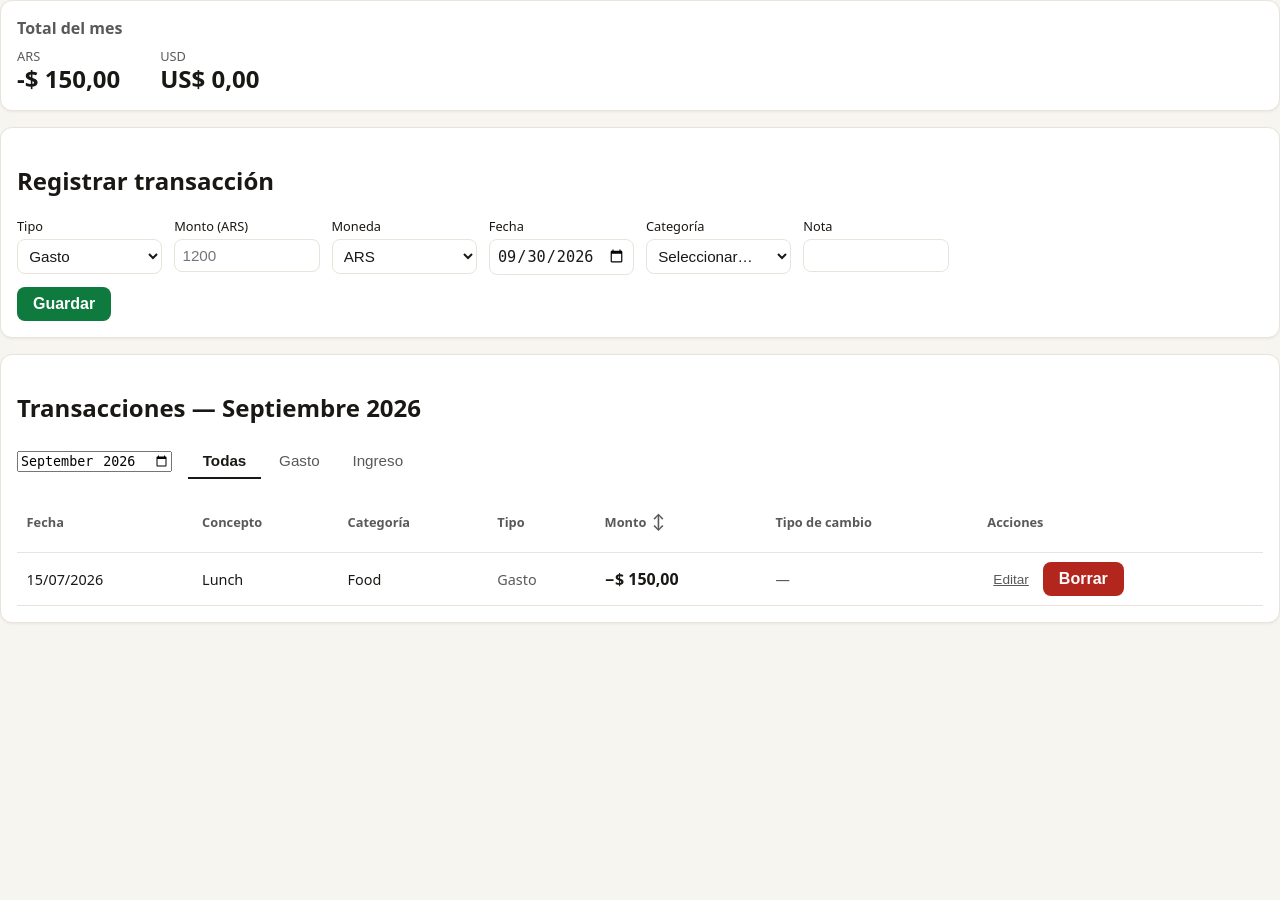
Test: TransactionsPage › deletes a row after inline confirmation
The width and height of the screenshot is (1280, 900).
Expected: the text "−$ 150,00" is shown, [605,568,679,590]
Click the button "Borrar".
click(1083, 579)  # box [1043,562,1124,596]
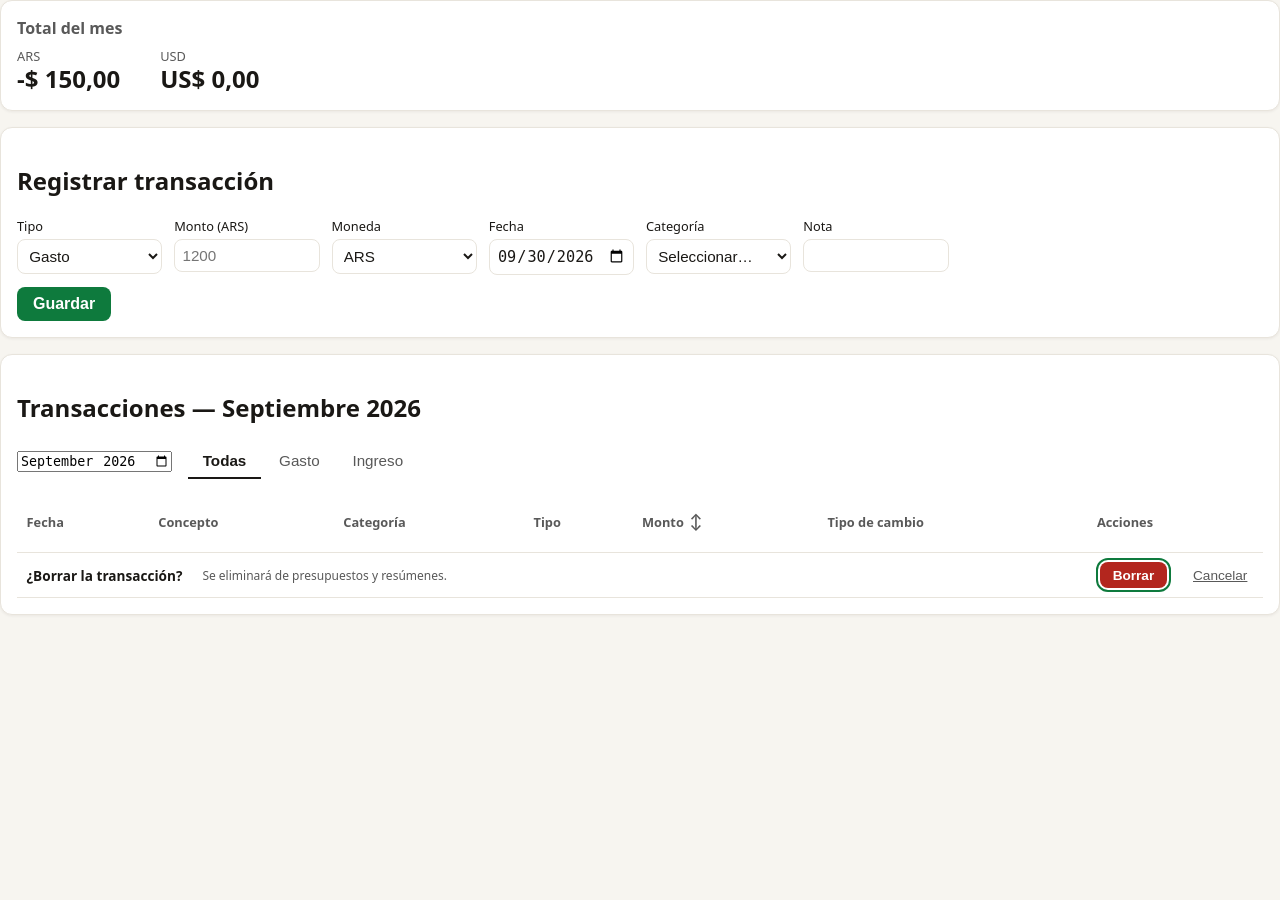
Result: the text "Se eliminará de presupuestos y resúmenes." is shown at [202,567,447,584]
Result: the message shows "¿Borrar la transacción?" at [27,566,182,585]
Click the button "Borrar".
click(1133, 575)  # box [1100,562,1167,588]
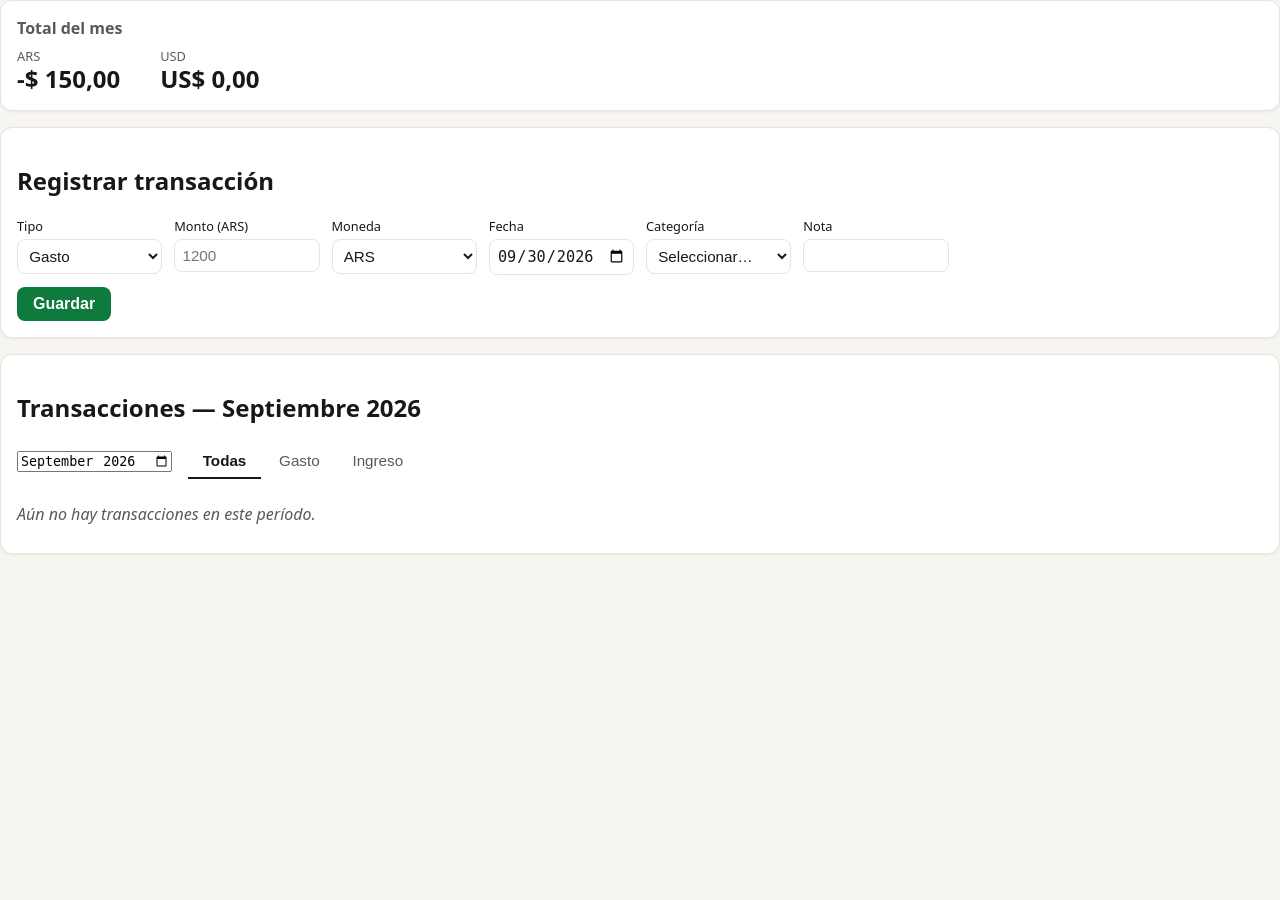
Result: the text "Aún no hay transacciones en este período." is shown at [17,503,316,525]
Result: the text "¿Borrar la transacción?" is gone
